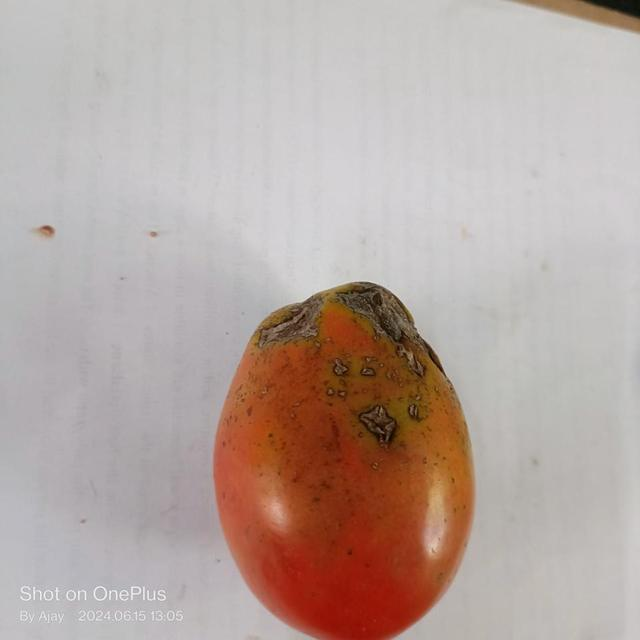Bacterial Spot Fruit: (44, 34, 260, 281)
